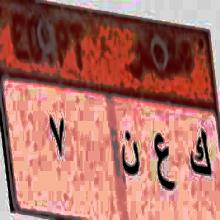7: (44, 104, 67, 163)
ain: (153, 127, 177, 202)
kaaf: (186, 119, 212, 190)
noon: (115, 126, 140, 184)
